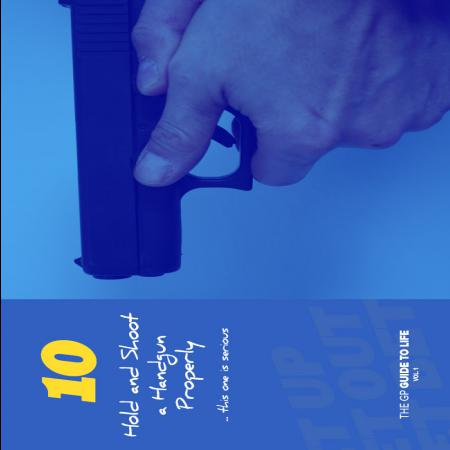Pistol: (51, 3, 266, 280)
